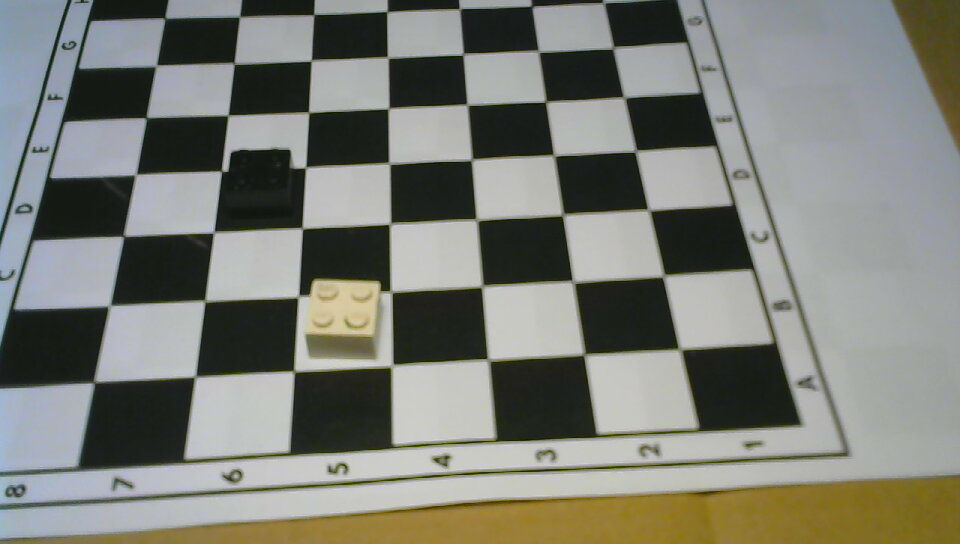bp: (226, 148, 291, 220)
wp: (303, 278, 380, 359)
